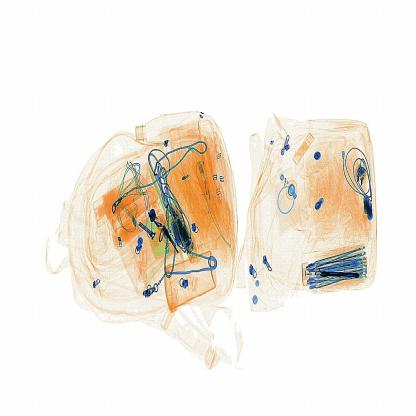knife: (314, 262, 373, 291)
